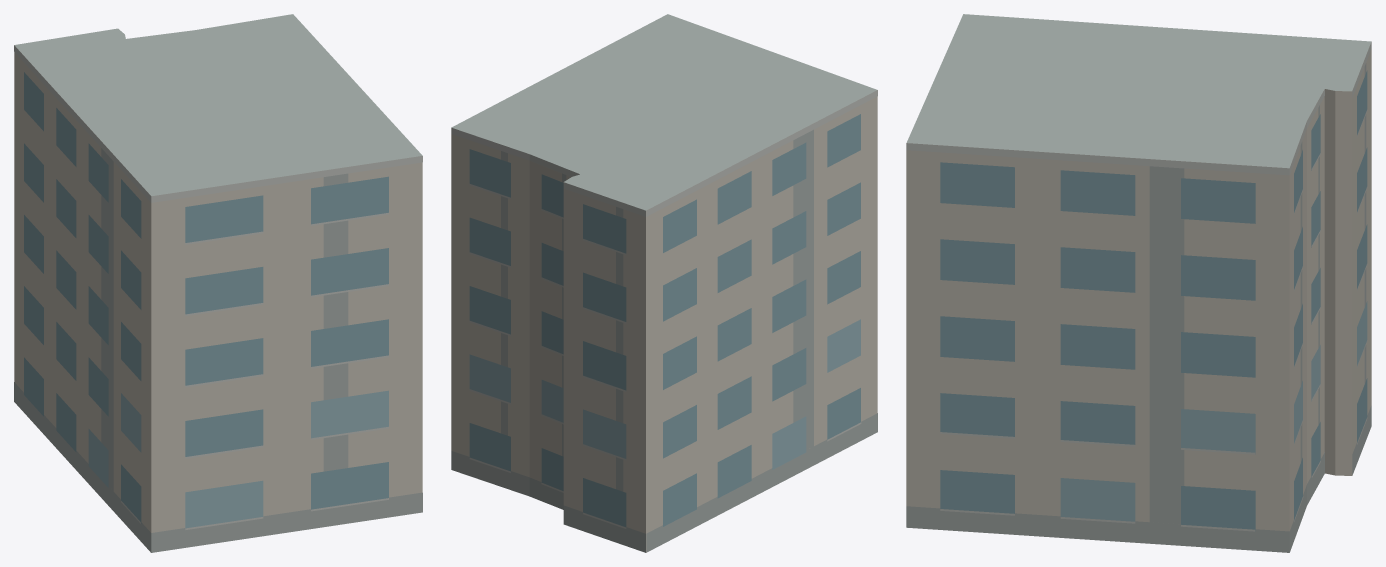
File: survey-upis-32849557.glb
3 views of the same model, side by side, from view 1: azimuth 30°, elevation 25°; view 2: azimuth 150°, elevation 25°; view 3: azimuth 270°, elevation 25° (orthographic). The views are drawn at different scales.
Visible parts, largest first — view 1: survey-upis-32849557.tmp; view 2: survey-upis-32849557.tmp; view 3: survey-upis-32849557.tmp.
Boxes of the visible parts, x1=… form: survey-upis-32849557.tmp: x1=14, y1=14, x2=422, y2=552; survey-upis-32849557.tmp: x1=451, y1=14, x2=877, y2=552; survey-upis-32849557.tmp: x1=906, y1=14, x2=1371, y2=552.
Size of the model in its own units: 11.28 by 13.1 by 14.37.
